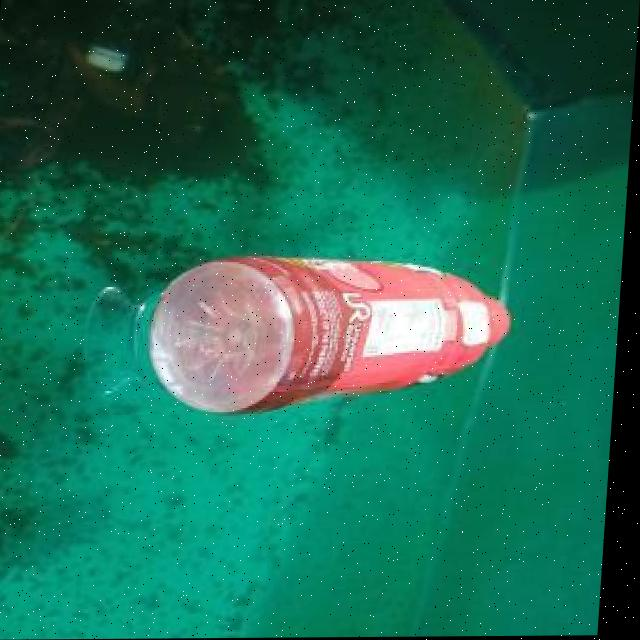bottle: (147, 254, 520, 418)
